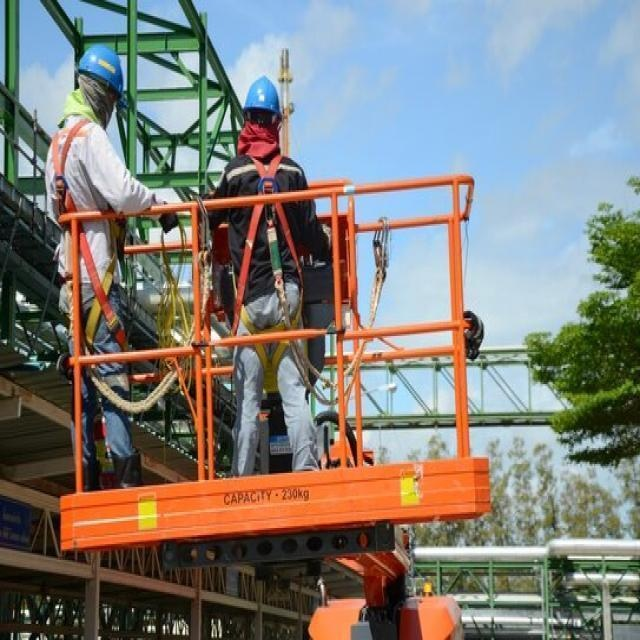Arnes_seguridad: (225, 158, 304, 394), (50, 118, 130, 350)
